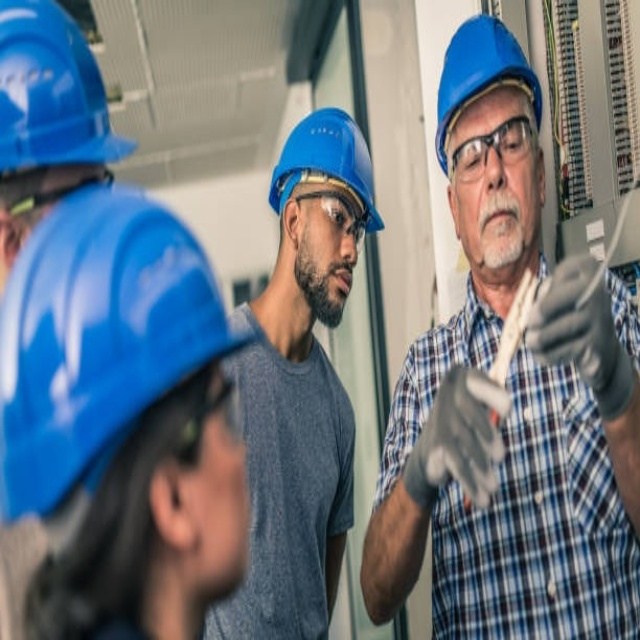Gafas: (164, 363, 246, 469), (448, 106, 541, 184), (9, 167, 116, 223), (295, 180, 368, 249)
Guantes: (520, 249, 638, 424), (404, 361, 508, 511)
Sin_mascara: (474, 195, 523, 262), (320, 260, 356, 318)
